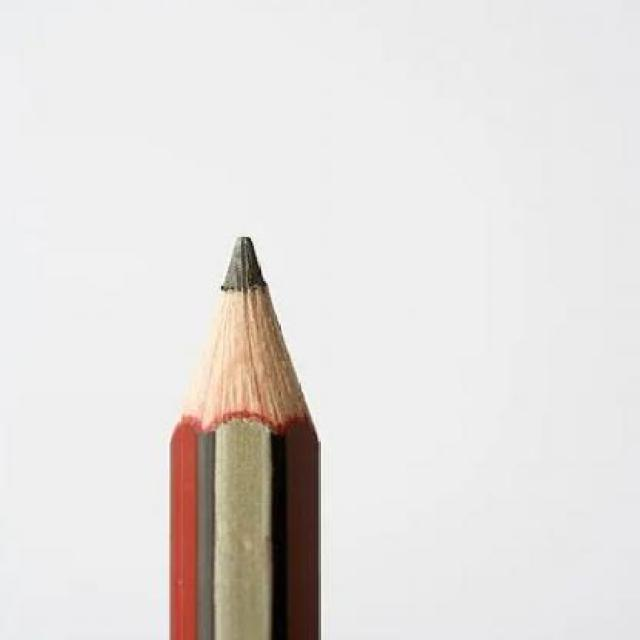pencil: (148, 218, 350, 640)
